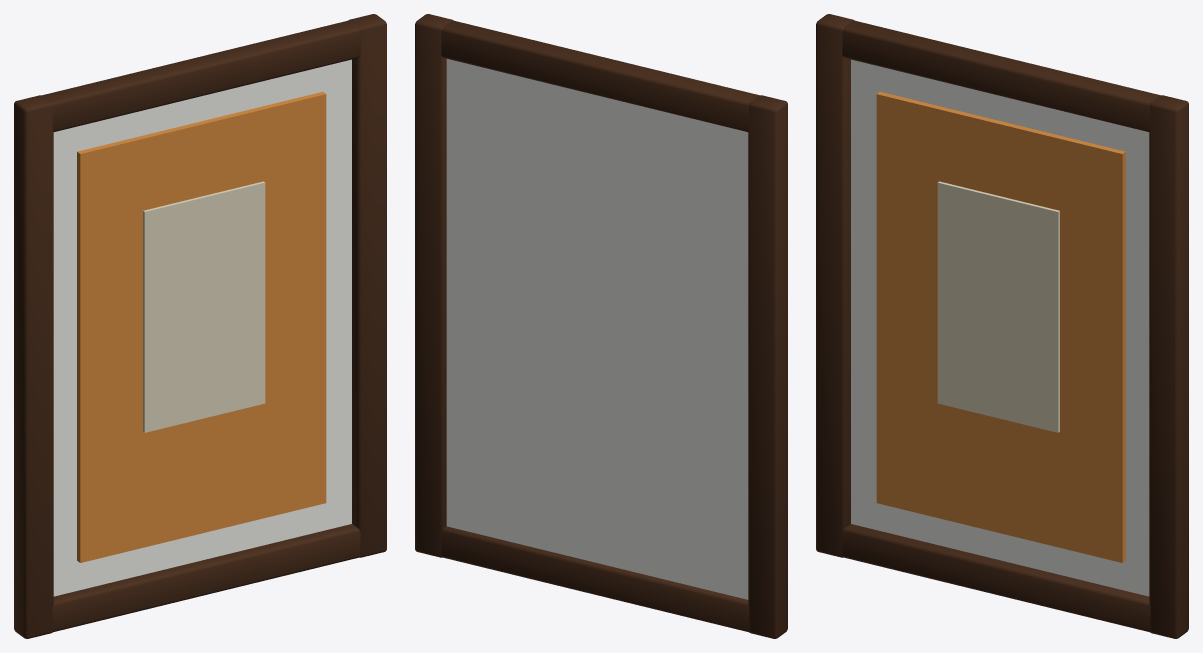
File: Frame_Portrait.glb
3 views of the same model, side by side, from view 1: azimuth 30°, elevation 25°; view 2: azimuth 150°, elevation 25°; view 3: azimuth 330°, elevation 25° (orthographic).
Parts seen in each view (by area): view 1: Frame_Portrait; view 2: Frame_Portrait; view 3: Frame_Portrait.
Part boxes in pixels (<box>): Frame_Portrait: <box>14,14,386,638</box>; Frame_Portrait: <box>415,14,787,638</box>; Frame_Portrait: <box>816,14,1188,638</box>.
Size of the model in its own units: 0.501 by 0.701 by 0.031.
